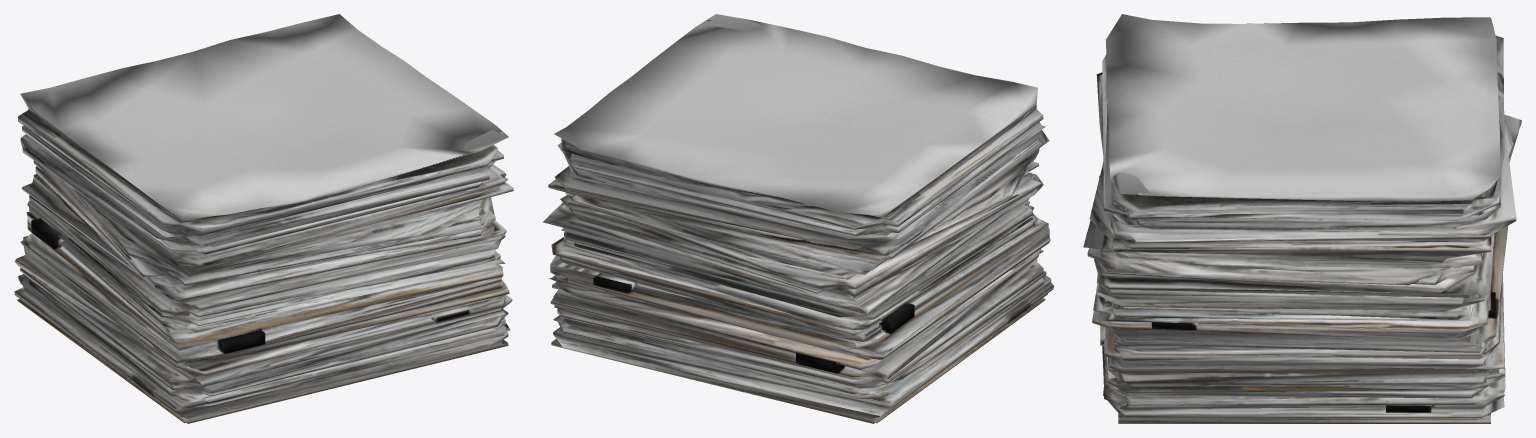
The model's file is ENV_papers_A_v001.fbx.
3 renders of one model, left to right at view 1: azimuth 30°, elevation 25°; view 2: azimuth 150°, elevation 25°; view 3: azimuth 270°, elevation 25°, orthographic. The views are drawn at different scales.
Parts seen in each view (by area): view 1: tripo_node_d5ef0670-29de-4156-b7eb-992e2cda7422; view 2: tripo_node_d5ef0670-29de-4156-b7eb-992e2cda7422; view 3: tripo_node_d5ef0670-29de-4156-b7eb-992e2cda7422.
Part boxes in pixels (x1=…): tripo_node_d5ef0670-29de-4156-b7eb-992e2cda7422: x1=14, y1=14, x2=513, y2=423; tripo_node_d5ef0670-29de-4156-b7eb-992e2cda7422: x1=543, y1=14, x2=1054, y2=423; tripo_node_d5ef0670-29de-4156-b7eb-992e2cda7422: x1=1083, y1=14, x2=1521, y2=423.
Bounding box in the file's own units: 99.8 × 56.45 × 94.73.
1 material, 1 textured.
